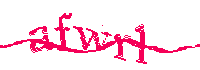a: (29, 26, 51, 52)
f: (55, 12, 73, 53)
l: (133, 24, 147, 67)
r: (114, 33, 129, 62)
w: (74, 24, 111, 51)
